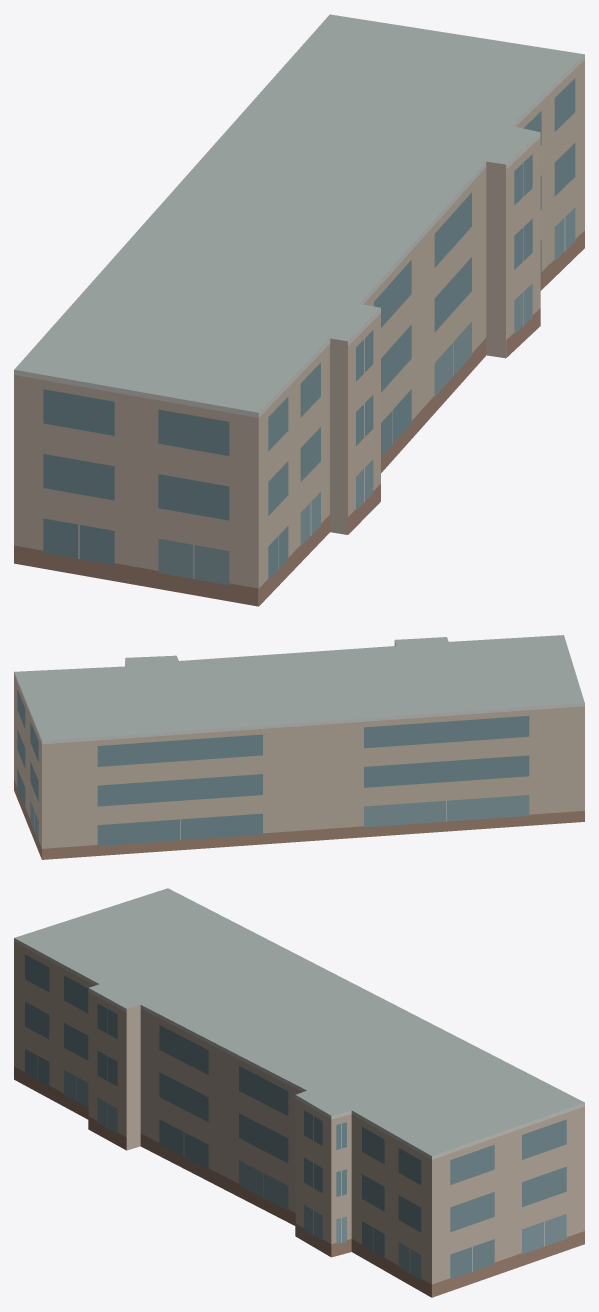
Rendered from survey-upis-33001250.glb.
The picture shows the model from 3 angles, top to bottom: view 1: azimuth 30°, elevation 25°; view 2: azimuth 150°, elevation 25°; view 3: azimuth 270°, elevation 25°; orthographic projection. The views are drawn at different scales.
Visible parts, largest first — view 1: survey-upis-33001250.tmp; view 2: survey-upis-33001250.tmp; view 3: survey-upis-33001250.tmp.
Part boxes in pixels (x1,y1,x2,y2): survey-upis-33001250.tmp: (14,14,584,606); survey-upis-33001250.tmp: (14,635,584,859); survey-upis-33001250.tmp: (14,888,584,1297).
Size of the model in its own units: 37.13 by 9.15 by 33.43.
